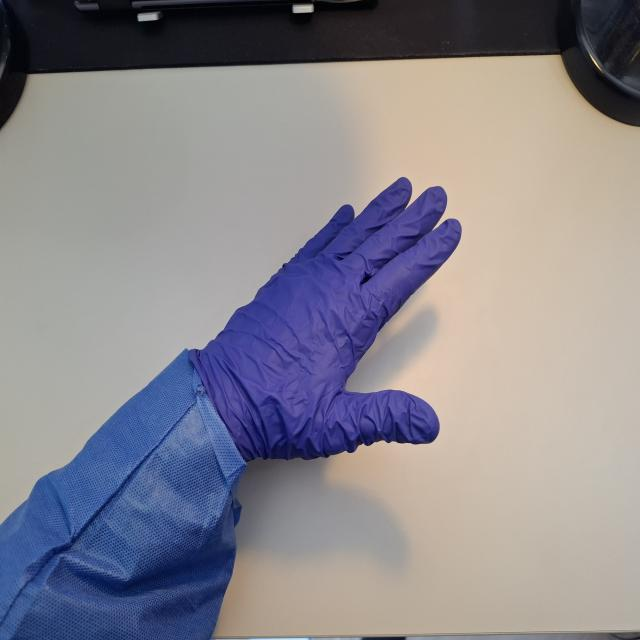glove_on: (188, 172, 464, 470)
